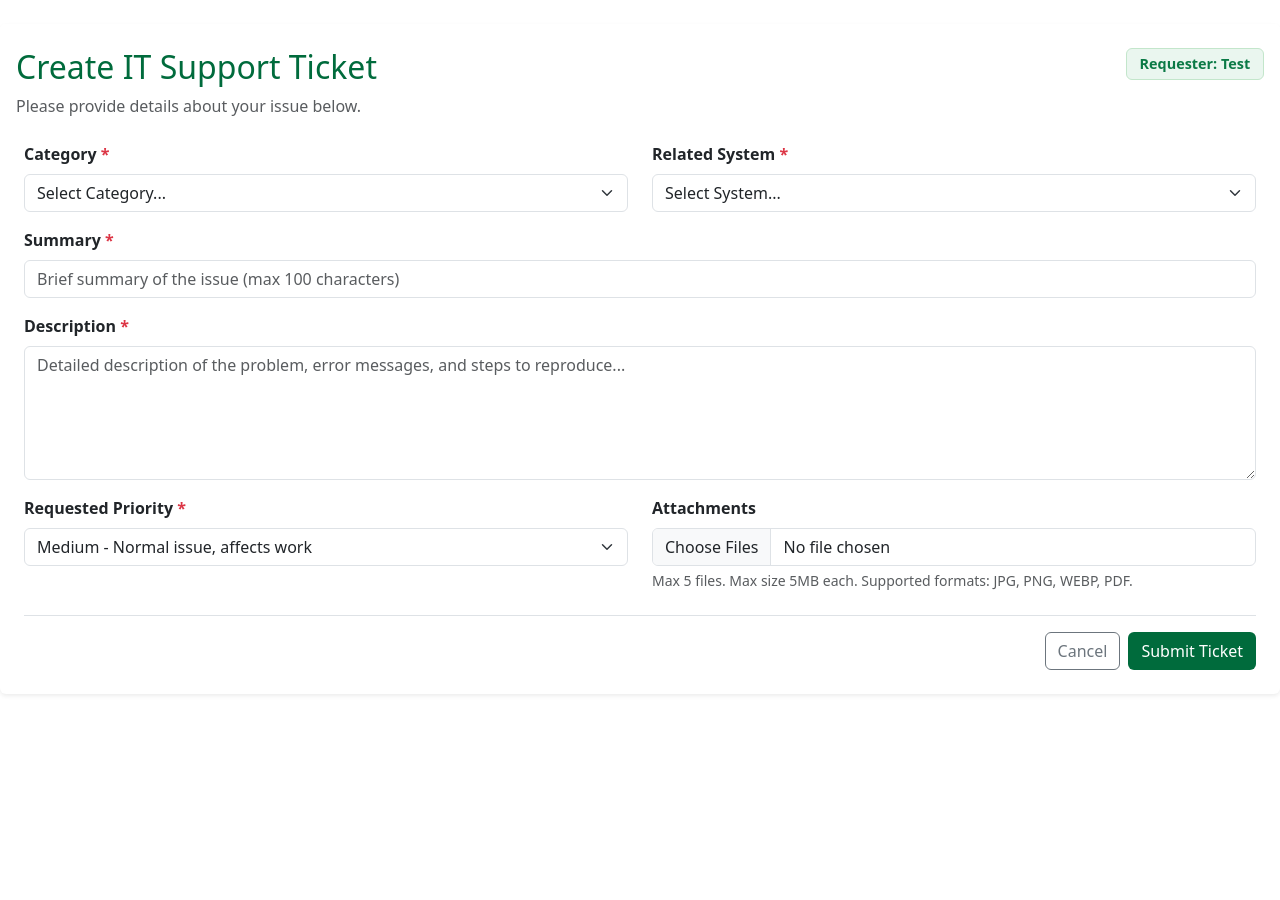
CreateTicket Component Validation › shows validation errors when submitting empty form
This screenshot has width=1280, height=900.
Step 1. Click the button "Submit Ticket" → (1192, 651), box [1128,632,1256,670]
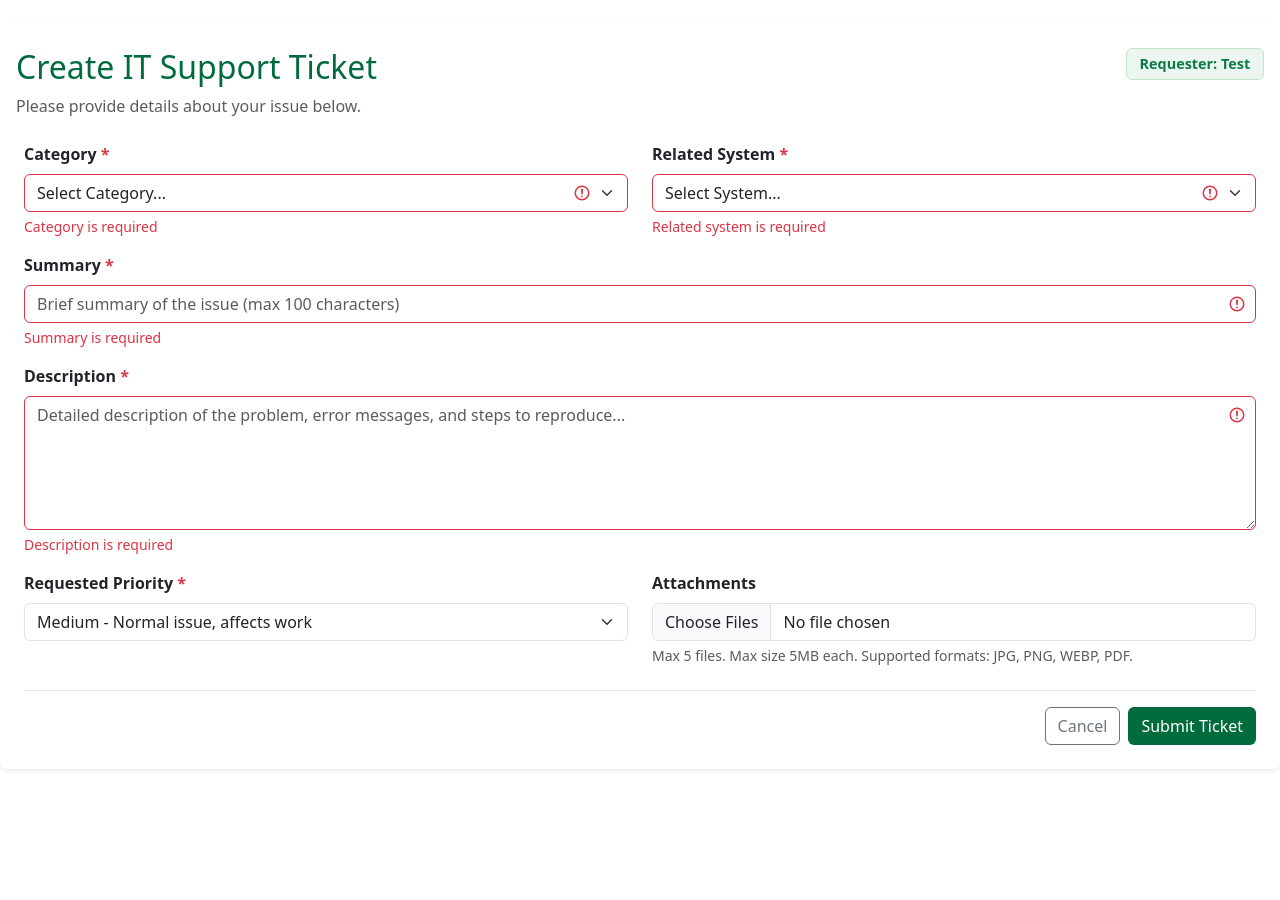
expect the text "Category is required" is shown: met, box [24,217,158,236]
expect the text "Related system is required" is shown: met, box [652,217,826,236]
expect the text "Summary is required" is shown: met, box [24,328,161,347]
